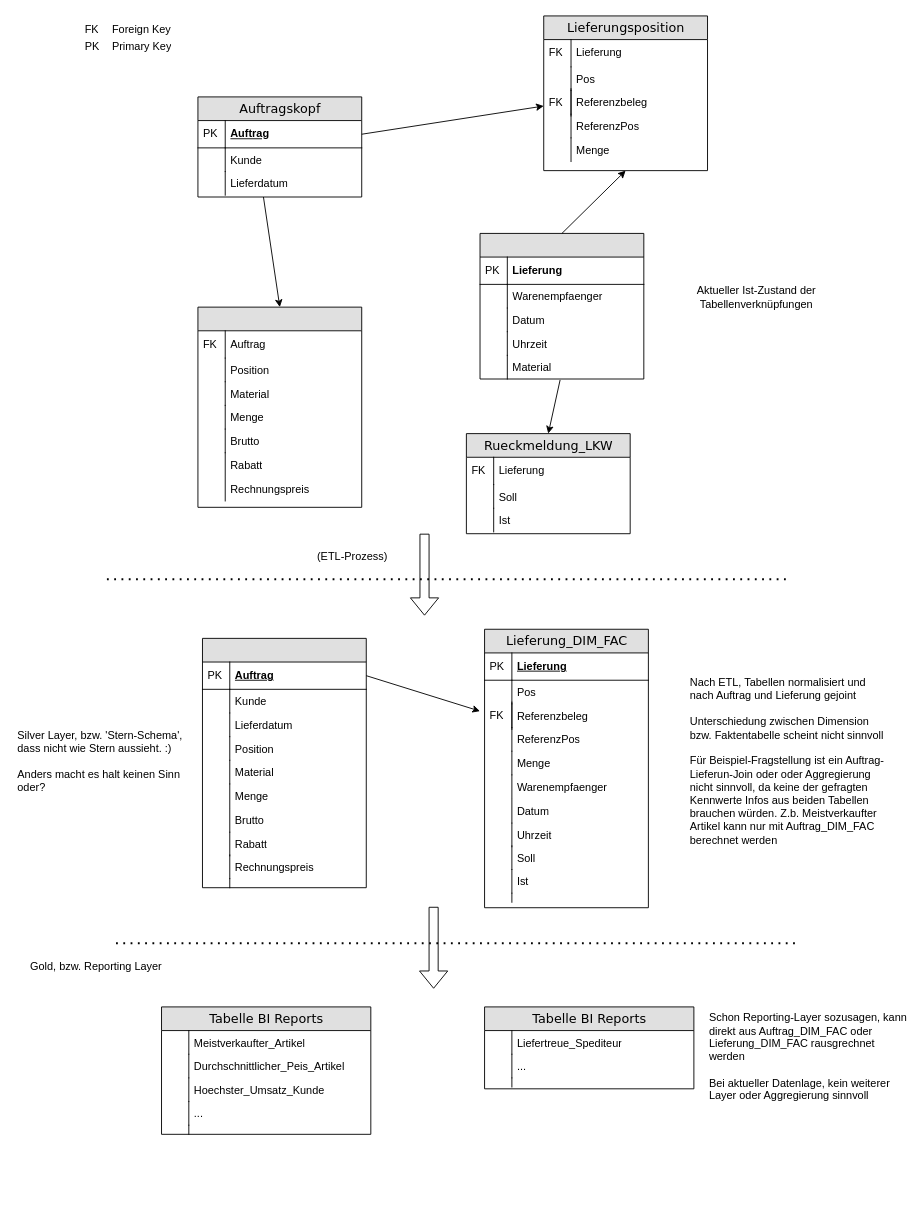
The diagram is 924 pixels wide and 1229 high, and some of its shapes have lost their labels. Each missing label, with the box of its shape:
Auftrag_DIM_FAC: (202, 637, 366, 888)
Auftragsposition: (197, 306, 362, 507)
Lieferungskopf: (479, 233, 644, 379)
